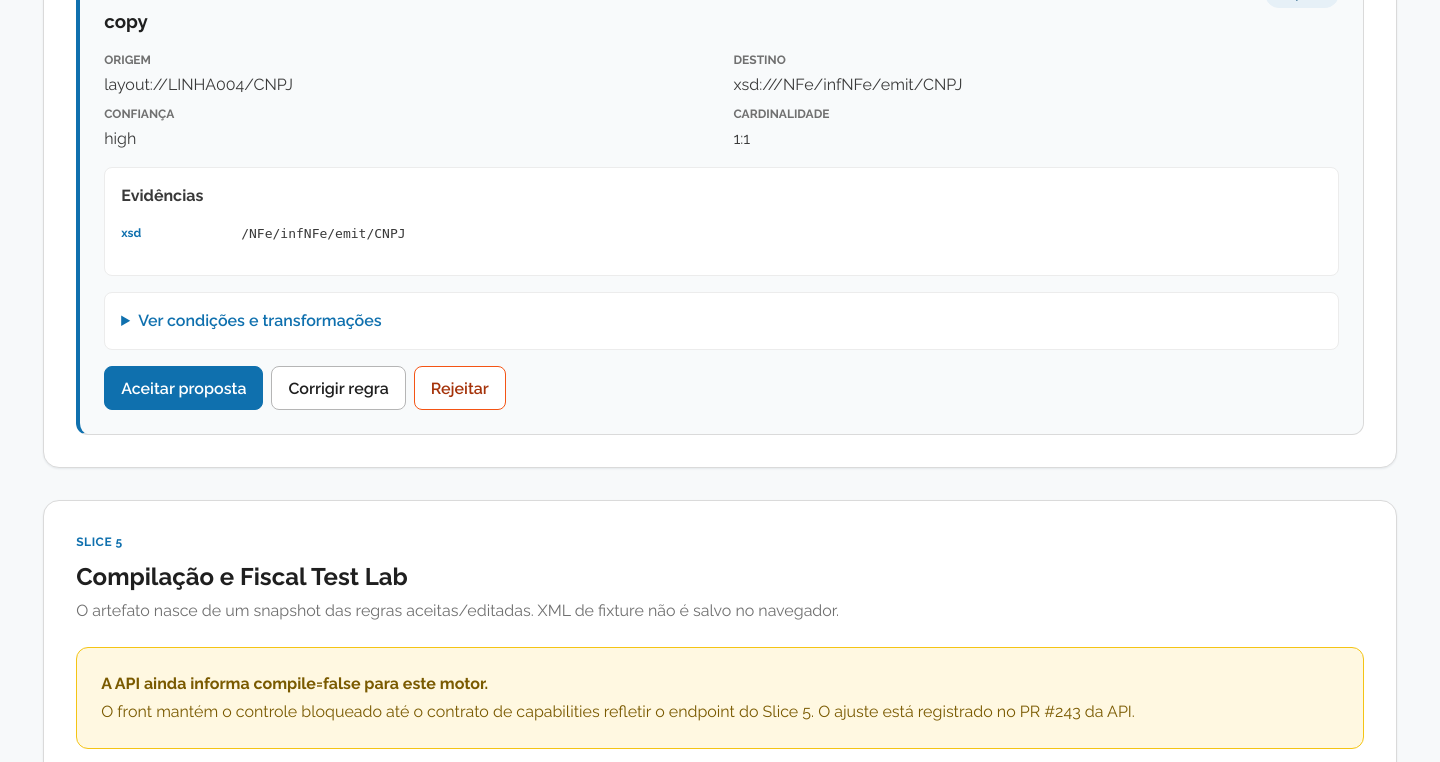
MappingStudioPage › revisa uma proposta TCL e atualiza a explicação após o ETag ser aceito
The width and height of the screenshot is (1440, 762).
(page scrolled)
Click the button "Aceitar proposta" at (184, 388), box [104,366,263,410]
(page scrolled)
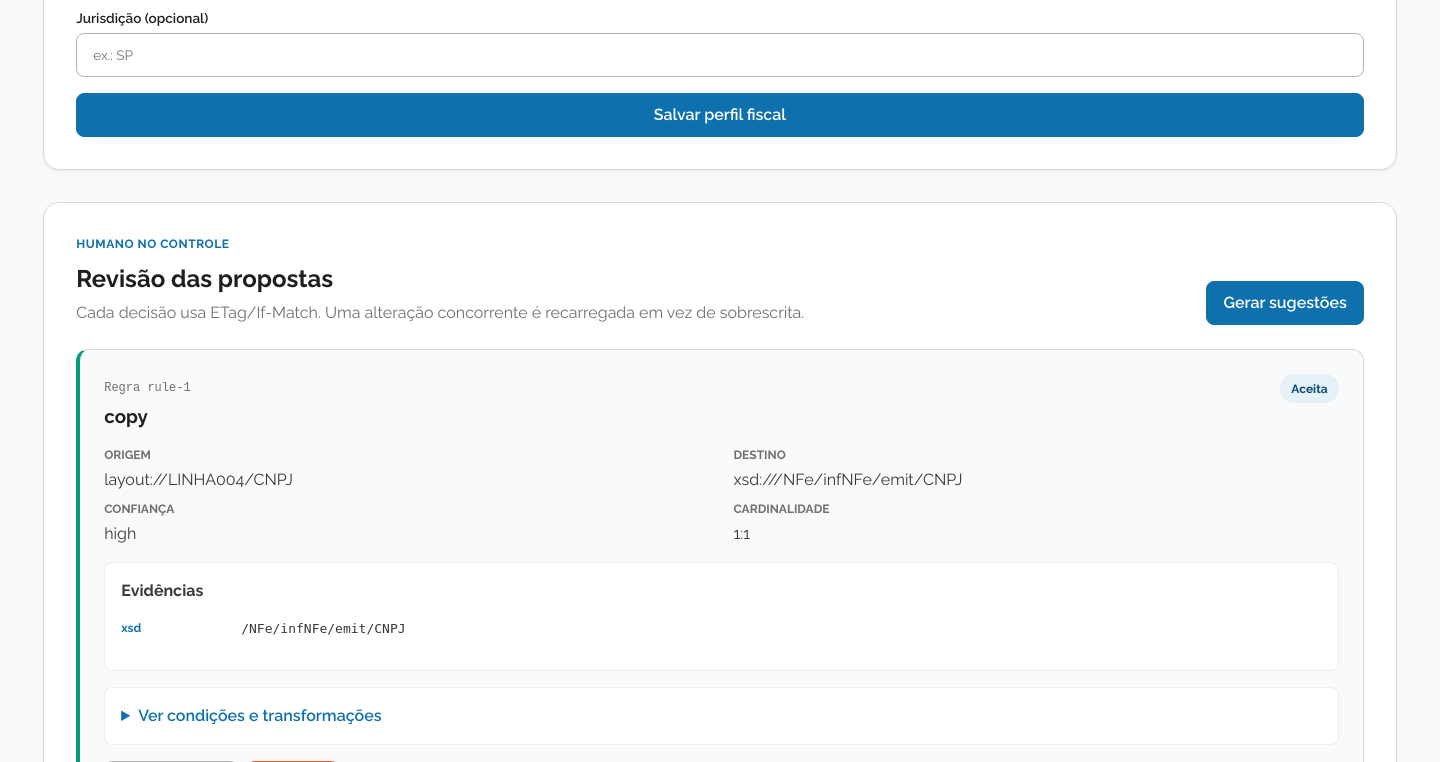
Expected: the text "Aceita" is shown, [1280,374,1339,403]
